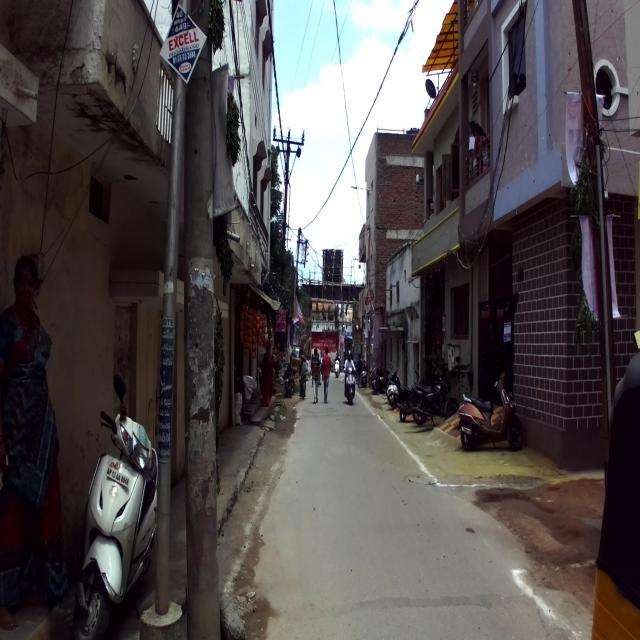autorickshaw: (588, 349, 639, 639)
motorcycle_Honda: (410, 368, 459, 428)
scooter: (72, 372, 158, 640), (456, 361, 523, 451), (342, 362, 358, 404)
